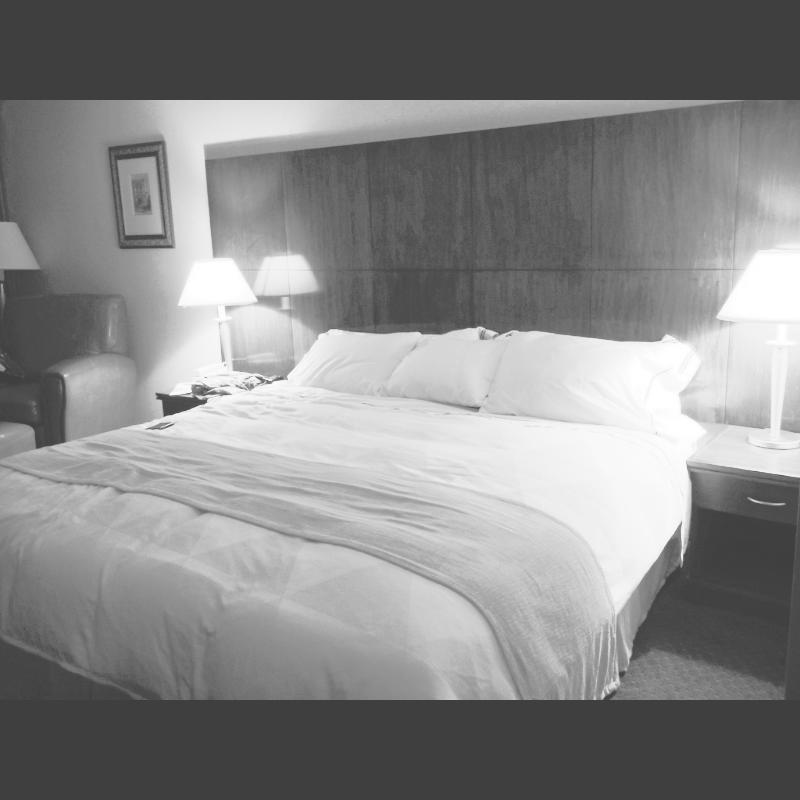pillow: (476, 328, 692, 446), (378, 332, 498, 408), (286, 327, 422, 387)
